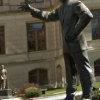Statue: (20, 2, 97, 97)
